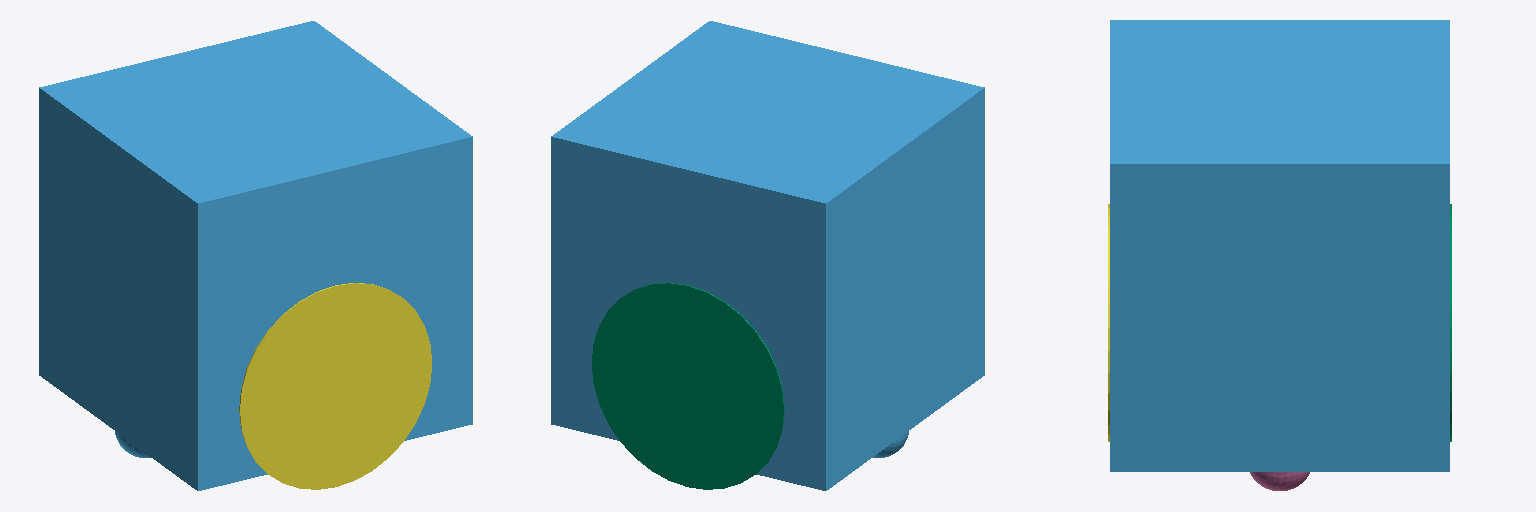
The robot description file, URDF, robot "box_bot":
<?xml version="1.0" ?>
<!-- =================================================================================== -->
<!-- |    This document was autogenerated by xacro from box_bot.xacro                  | -->
<!-- |    EDITING THIS FILE BY HAND IS NOT RECOMMENDED                                 | -->
<!-- =================================================================================== -->
<robot name="box_bot">
  <material name="purple" >
    <color rgba="0.49411764705882355 0.11764705882352941 0.611764705882353 1.0" />
  </material>
  <material name="red" >
    <color rgba="0.8980392156862745 0.0 0.0 1.0" />
  </material>
  <material name="blue">
    <color rgba="0.203125 0.23828125 0.28515625 1.0"/>
  </material>
  <material name="green">
    <color rgba="0.0 0.8 0.0 1.0"/>
  </material>
  <material name="yellow" >
    <color rgba="1.0 1.0 0.0784313725490196 1.0" />
  </material>
  <material name="orange">
    <color rgba="1.0 0.423529411765 0.0392156862745 1.0"/>
  </material>
  <material name="brown">
    <color rgba="0.870588235294 0.811764705882 0.764705882353 1.0"/>
  </material>
  <material name="pink" >
    <color rgba="1.0 0.5058823529411764 0.7529411764705882 1.0" />
  </material>
  <material name="gold" >
    <color rgba="0.8588235294117647 0.7058823529411765 0.047058823529411764 1.0" />
  </material>
  <gazebo reference="chassis">
    <material>Gazebo/Blue</material>
  </gazebo>
  <gazebo reference="left_wheel">
    <kp>1000.0</kp>
    <kd>1000.0</kd>
    <mu1>0.5</mu1>
    <mu2>0.5</mu2>
    <material>Gazebo/Blue</material>
  </gazebo>
  <gazebo reference="right_wheel">
    <kp>1000.0</kp>
    <kd>1000.0</kd>
    <mu1>0.5</mu1>
    <mu2>0.5</mu2>
    <material>Gazebo/Blue</material>
  </gazebo>
  <!-- ros_control plugin , no used in this robot for the moment-->
  <gazebo>
    <plugin filename="libgazebo_ros_control.so" name="gazebo_ros_control">
      <robotNamespace>/box_bot</robotNamespace>
      <robotParam>/robot_description</robotParam>
      <robotSimType>gazebo_ros_control/DefaultRobotHWSim</robotSimType>
    </plugin>
  </gazebo>
  <gazebo>
    <plugin filename="libgazebo_ros_diff_drive.so" name="differential_drive_controller">

      <ros>
        <!-- <namespace>/box_bot</namespace> -->
      </ros>

      <!-- wheels -->
      <left_joint>joint_right_wheel</left_joint>
      <right_joint>joint_left_wheel</right_joint>

      <!-- kinematics -->
      <wheel_separation>0.1</wheel_separation>
      <wheel_diameter>0.025</wheel_diameter>

      <!-- limits -->
      <max_wheel_torque>0.1</max_wheel_torque>
      <max_wheel_acceleration>1.0</max_wheel_acceleration>

      <!-- output -->
      <publish_odom>true</publish_odom>
      <publish_odom_tf>true</publish_odom_tf>

      <odometry_frame>odom</odometry_frame>
      <robot_base_frame>chassis</robot_base_frame>


    </plugin>

    <plugin name="box_bot_joint_state" filename="libgazebo_ros_joint_state_publisher.so">
        <ros>
            <remapping>~/out:=joint_states</remapping>
        </ros>
        <update_rate>30</update_rate>
        <joint_name>wheel_left_joint</joint_name>
        <joint_name>wheel_right_joint</joint_name>
    </plugin>

  </gazebo>
  <!-- imu -->

  <gazebo reference="base_link">
    <sensor name="box_bot_imu" type="imu">
      <always_on>true</always_on>
      <update_rate>30</update_rate>
      <plugin filename="libgazebo_ros_imu_sensor.so" name="box_bot_imu_plugin" >
        <ros>
          <argument>~/out:=data</argument>
        </ros>
      </plugin>
    </sensor>
  </gazebo>
  <!--
  <xacro:include filename="$(find box_bot_description)/robot/box_bot_propeller.xacro" />
  -->
  <link name="base_link">
      </link>
  <link name="chassis">
    <!-- pose and inertial -->
    <pose>0 0 0 0 0 0</pose>
    <inertial>
      <mass value="1.0"/>
      <origin rpy="0 0 0" xyz="0 0 -0.025"/>
      <inertia ixx="0.00033333333333333343" ixy="0" ixz="0" iyy="0.00033333333333333343" iyz="0" izz="0.00033333333333333343"/>
      <inertia ixx="0.000241935" ixy="0" ixz="0" iyy="0.000241935" iyz="0" izz="0.000241935"/>
    </inertial>
    <!-- body -->
    <collision name="collision_chassis">
      <geometry>
        <box size="0.1 0.1 0.1"/>
      </geometry>
    </collision>
    <visual name="visual_chassis">
      <geometry>
        <box size="0.1 0.1 0.1"/>
      </geometry>
    </visual>
  </link>
  <gazebo reference="chassis">
    <material>Gazebo/Red</material>
  </gazebo>
  <joint name="base_link_joint" type="fixed">
    <origin rpy="0 0 0" xyz="0 0 0"/>
    <parent link="base_link"/>
    <child link="chassis"/>
  </joint>
  <link name="right_wheel">
    <inertial>
      <mass value="0.2"/>
      <origin rpy="0 1.5707 1.5707" xyz="0 0 0"/>
      <inertia ixx="3.126666666666667e-05" ixy="0" ixz="0" iyy="3.126666666666667e-05" iyz="0" izz="6.250000000000001e-05"/>
    </inertial>
    <collision name="link_right_wheel_collision">
      <origin rpy="0 1.5707 1.5707" xyz="0 0 0"/>
      <geometry>
        <cylinder length="0.001" radius="0.035"/>
      </geometry>
    </collision>
    <visual name="link_right_wheel_visual">
      <origin rpy="0 1.5707 1.5707" xyz="0 0 0"/>
      <geometry>
        <cylinder length="0.001" radius="0.035"/>
      </geometry>
    </visual>
  </link>
  <joint name="joint_right_wheel" type="continuous">
    <origin rpy="0 0 0" xyz="0 0.05 -0.025"/>
    <child link="right_wheel"/>
    <parent link="chassis"/>
    <axis rpy="0 0 0" xyz="0 1 0"/>
    <limit effort="10000" velocity="1000"/>
    <joint_properties damping="1.0" friction="1.0"/>
  </joint>
  <link name="left_wheel">
    <inertial>
      <mass value="0.2"/>
      <origin rpy="0 1.5707 1.5707" xyz="0 0 0"/>
      <inertia ixx="3.126666666666667e-05" ixy="0" ixz="0" iyy="3.126666666666667e-05" iyz="0" izz="6.250000000000001e-05"/>
    </inertial>
    <collision name="link_right_wheel_collision">
      <origin rpy="0 1.5707 1.5707" xyz="0 0 0"/>
      <geometry>
        <cylinder length="0.001" radius="0.035"/>
      </geometry>
    </collision>
    <visual name="link_right_wheel_visual">
      <origin rpy="0 1.5707 1.5707" xyz="0 0 0"/>
      <geometry>
        <cylinder length="0.001" radius="0.035"/>
      </geometry>
    </visual>
  </link>
  <joint name="joint_left_wheel" type="continuous">
    <origin rpy="0 0 0" xyz="0 -0.05 -0.025"/>
    <child link="left_wheel"/>
    <parent link="chassis"/>
    <axis rpy="0 0 0" xyz="0 1 0"/>
    <limit effort="10000" velocity="1000"/>
    <joint_properties damping="1.0" friction="1.0"/>
  </joint>
  <!-- CASTER FRONT-->
  <link name="front_yaw_link">
    <inertial>
      <mass value="0.001"/>
      <origin rpy="0 1.5707 1.5707" xyz="0 0 0"/>
      <inertia ixx="5.145833333333334e-09" ixy="0" ixz="0" iyy="5.145833333333334e-09" iyz="0" izz="1.0125000000000003e-08"/>
    </inertial>
    <collision name="link_right_wheel_collision">
      <origin rpy="0 1.5707 1.5707" xyz="0 0 0"/>
      <geometry>
        <cylinder length="0.001" radius="0.0045000000000000005"/>
      </geometry>
    </collision>
  </link>
  <joint name="front_yaw_joint" type="continuous">
    <origin rpy="0 0 0" xyz="0.04 0 -0.05"/>
    <parent link="chassis"/>
    <child link="front_yaw_link"/>
    <axis xyz="0 0 1"/>
    <limit effort="1000.0" velocity="100.0"/>
    <dynamics damping="0.0" friction="0.1"/>
  </joint>
  <transmission name="front_yaw_joint_trans">
    <type>transmission_interface/SimpleTransmission</type>
    <joint name="front_yaw_joint">
      <hardwareInterface>EffortJointInterface</hardwareInterface>
    </joint>
    <actuator name="front_yaw_jointMotor">
      <hardwareInterface>EffortJointInterface</hardwareInterface>
      <mechanicalReduction>1</mechanicalReduction>
    </actuator>
  </transmission>
  <link name="front_roll_link">
    <inertial>
      <mass value="0.001"/>
      <origin rpy="0 1.5707 1.5707" xyz="0 0 0"/>
      <inertia ixx="5.145833333333334e-09" ixy="0" ixz="0" iyy="5.145833333333334e-09" iyz="0" izz="1.0125000000000003e-08"/>
    </inertial>
    <collision name="link_right_wheel_collision">
      <origin rpy="0 1.5707 1.5707" xyz="0 0 0"/>
      <geometry>
        <cylinder length="0.001" radius="0.0045000000000000005"/>
      </geometry>
    </collision>
  </link>
  <joint name="front_roll_joint" type="continuous">
    <origin rpy="0 0 0" xyz="0 0 0"/>
    <parent link="front_yaw_link"/>
    <child link="front_roll_link"/>
    <axis xyz="1 0 0"/>
    <limit effort="1000.0" velocity="100.0"/>
    <dynamics damping="0.0" friction="0.1"/>
  </joint>
  <transmission name="front_roll_joint_trans">
    <type>transmission_interface/SimpleTransmission</type>
    <joint name="front_roll_joint">
      <hardwareInterface>EffortJointInterface</hardwareInterface>
    </joint>
    <actuator name="front_roll_jointMotor">
      <hardwareInterface>EffortJointInterface</hardwareInterface>
      <mechanicalReduction>1</mechanicalReduction>
    </actuator>
  </transmission>
  <link name="front_pitch_link">
    <inertial>
      <mass value="0.001"/>
      <origin rpy="0 1.5707 1.5707" xyz="0 0 0"/>
      <inertia ixx="4e-08" ixy="0" ixz="0" iyy="4e-08" iyz="0" izz="4e-08"/>
    </inertial>
    <collision name="front_collision">
      <origin rpy="0 1.5707 1.5707" xyz="0 0 0"/>
      <geometry>
        <sphere radius="0.01"/>
      </geometry>
    </collision>
    <visual name="front_visual">
      <origin rpy="0 1.5707 1.5707" xyz="0 0 0"/>
      <geometry>
        <sphere radius="0.01"/>
      </geometry>
    </visual>
  </link>
  <joint name="front_pitch_joint" type="continuous">
    <origin rpy="0 0 0" xyz="0 0 0"/>
    <parent link="front_roll_link"/>
    <child link="front_pitch_link"/>
    <axis xyz="0 1 0"/>
    <limit effort="1000.0" velocity="100.0"/>
    <dynamics damping="0.0" friction="0.1"/>
  </joint>
  <transmission name="front_pitch_joint_trans">
    <type>transmission_interface/SimpleTransmission</type>
    <joint name="front_pitch_joint">
      <hardwareInterface>EffortJointInterface</hardwareInterface>
    </joint>
    <actuator name="front_pitch_jointMotor">
      <hardwareInterface>EffortJointInterface</hardwareInterface>
      <mechanicalReduction>1</mechanicalReduction>
    </actuator>
  </transmission>
  <gazebo reference="front_pitch_link">
    <kp>1000000000000000000000000000.0</kp>
    <kd>1000000000000000000000000000.0</kd>
    <mu1>0.5</mu1>
    <mu2>0.5</mu2>
    <material>Gazebo/Green</material>
  </gazebo>
  <!-- CASTER FRONT-->
  <link name="back_yaw_link">
    <inertial>
      <mass value="0.001"/>
      <origin rpy="0 1.5707 1.5707" xyz="0 0 0"/>
      <inertia ixx="5.145833333333334e-09" ixy="0" ixz="0" iyy="5.145833333333334e-09" iyz="0" izz="1.0125000000000003e-08"/>
    </inertial>
    <collision name="link_right_wheel_collision">
      <origin rpy="0 1.5707 1.5707" xyz="0 0 0"/>
      <geometry>
        <cylinder length="0.001" radius="0.0045000000000000005"/>
      </geometry>
    </collision>
  </link>
  <joint name="back_yaw_joint" type="continuous">
    <origin rpy="0 0 0" xyz="-0.04 0 -0.05"/>
    <parent link="chassis"/>
    <child link="back_yaw_link"/>
    <axis xyz="0 0 1"/>
    <limit effort="1000.0" velocity="100.0"/>
    <dynamics damping="0.0" friction="0.1"/>
  </joint>
  <transmission name="back_yaw_joint_trans">
    <type>transmission_interface/SimpleTransmission</type>
    <joint name="back_yaw_joint">
      <hardwareInterface>EffortJointInterface</hardwareInterface>
    </joint>
    <actuator name="back_yaw_jointMotor">
      <hardwareInterface>EffortJointInterface</hardwareInterface>
      <mechanicalReduction>1</mechanicalReduction>
    </actuator>
  </transmission>
  <link name="back_roll_link">
    <inertial>
      <mass value="0.001"/>
      <origin rpy="0 1.5707 1.5707" xyz="0 0 0"/>
      <inertia ixx="5.145833333333334e-09" ixy="0" ixz="0" iyy="5.145833333333334e-09" iyz="0" izz="1.0125000000000003e-08"/>
    </inertial>
    <collision name="link_right_wheel_collision">
      <origin rpy="0 1.5707 1.5707" xyz="0 0 0"/>
      <geometry>
        <cylinder length="0.001" radius="0.0045000000000000005"/>
      </geometry>
    </collision>
  </link>
  <joint name="back_roll_joint" type="continuous">
    <origin rpy="0 0 0" xyz="0 0 0"/>
    <parent link="back_yaw_link"/>
    <child link="back_roll_link"/>
    <axis xyz="1 0 0"/>
    <limit effort="1000.0" velocity="100.0"/>
    <dynamics damping="0.0" friction="0.1"/>
  </joint>
  <transmission name="back_roll_joint_trans">
    <type>transmission_interface/SimpleTransmission</type>
    <joint name="back_roll_joint">
      <hardwareInterface>EffortJointInterface</hardwareInterface>
    </joint>
    <actuator name="back_roll_jointMotor">
      <hardwareInterface>EffortJointInterface</hardwareInterface>
      <mechanicalReduction>1</mechanicalReduction>
    </actuator>
  </transmission>
  <link name="back_pitch_link">
    <inertial>
      <mass value="0.001"/>
      <origin rpy="0 1.5707 1.5707" xyz="0 0 0"/>
      <inertia ixx="4e-08" ixy="0" ixz="0" iyy="4e-08" iyz="0" izz="4e-08"/>
    </inertial>
    <collision name="back_collision">
      <origin rpy="0 1.5707 1.5707" xyz="0 0 0"/>
      <geometry>
        <sphere radius="0.01"/>
      </geometry>
    </collision>
    <visual name="back_visual">
      <origin rpy="0 1.5707 1.5707" xyz="0 0 0"/>
      <geometry>
        <sphere radius="0.01"/>
      </geometry>
    </visual>
  </link>
  <joint name="back_pitch_joint" type="continuous">
    <origin rpy="0 0 0" xyz="0 0 0"/>
    <parent link="back_roll_link"/>
    <child link="back_pitch_link"/>
    <axis xyz="0 1 0"/>
    <limit effort="1000.0" velocity="100.0"/>
    <dynamics damping="0.0" friction="0.1"/>
  </joint>
  <transmission name="back_pitch_joint_trans">
    <type>transmission_interface/SimpleTransmission</type>
    <joint name="back_pitch_joint">
      <hardwareInterface>EffortJointInterface</hardwareInterface>
    </joint>
    <actuator name="back_pitch_jointMotor">
      <hardwareInterface>EffortJointInterface</hardwareInterface>
      <mechanicalReduction>1</mechanicalReduction>
    </actuator>
  </transmission>
  <gazebo reference="back_pitch_link">
    <kp>1000000000000000000000000000.0</kp>
    <kd>1000000000000000000000000000.0</kd>
    <mu1>0.5</mu1>
    <mu2>0.5</mu2>
    <material>Gazebo/Green</material>
  </gazebo>
</robot>

--- Render facts (derived) ---
3 views of the same robot in one strip: view 1: azimuth 30°, elevation 25°; view 2: azimuth 150°, elevation 25°; view 3: azimuth 270°, elevation 25° (orthographic).
Model box_bot with 10 links and 9 joints (8 continuous, 1 fixed), rooted at base_link, posed every joint at zero.
Visible links, largest first — view 1: chassis, left_wheel; view 2: chassis, right_wheel; view 3: chassis, front_pitch_link.
Link boxes in pixels (bbox=[...]): chassis: bbox=[39, 21, 472, 490]; left_wheel: bbox=[239, 283, 431, 489]; chassis: bbox=[551, 21, 984, 490]; right_wheel: bbox=[592, 283, 784, 489]; chassis: bbox=[1110, 20, 1449, 471]; front_pitch_link: bbox=[1250, 472, 1309, 490].
Bounding box of the posed robot: 0.1 × 0.101 × 0.11 m (x, y, z).
Geometry: primitives only (box / cylinder / sphere), no mesh files.